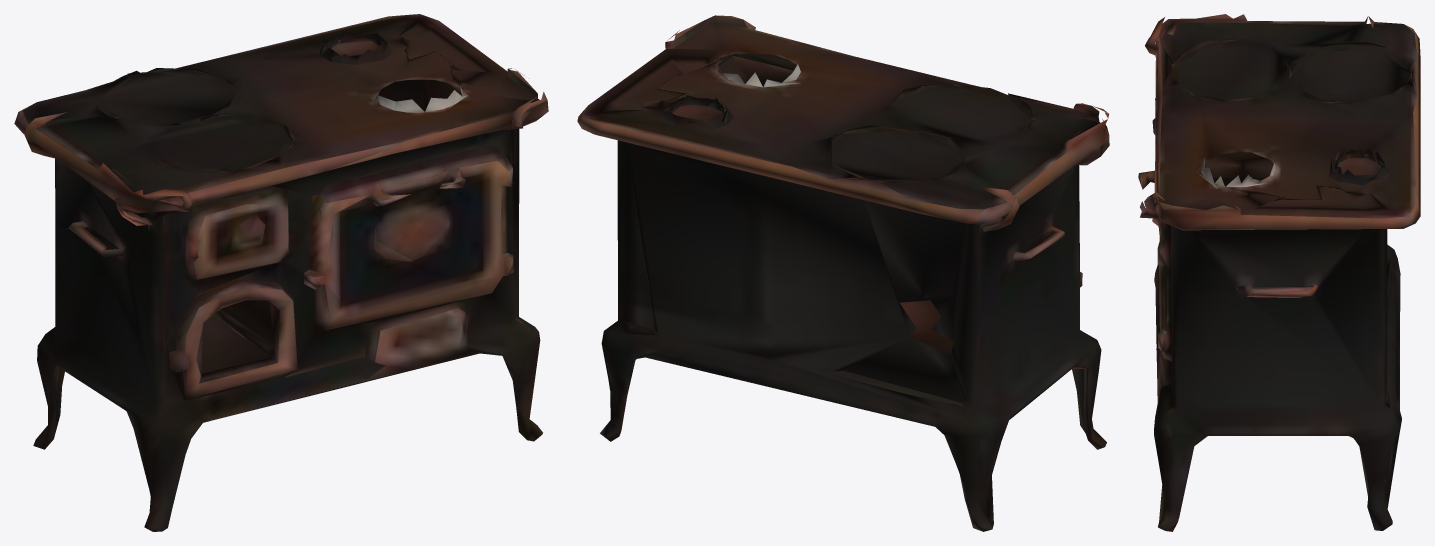
Rendered from cocina.movil.glb.
3 views of the same model, side by side, from view 1: azimuth 30°, elevation 25°; view 2: azimuth 150°, elevation 25°; view 3: azimuth 270°, elevation 25° (orthographic). The views are drawn at different scales.
Visible parts, largest first — view 1: geometry_0; view 2: geometry_0; view 3: geometry_0.
Part boxes in pixels (left/top/right/bottom): geometry_0: left=14, top=14, right=548, bottom=531; geometry_0: left=577, top=15, right=1109, bottom=531; geometry_0: left=1138, top=14, right=1420, bottom=531.
Size of the model in its own units: 1.1 by 0.85 by 0.6471.
1 material, 1 textured.
